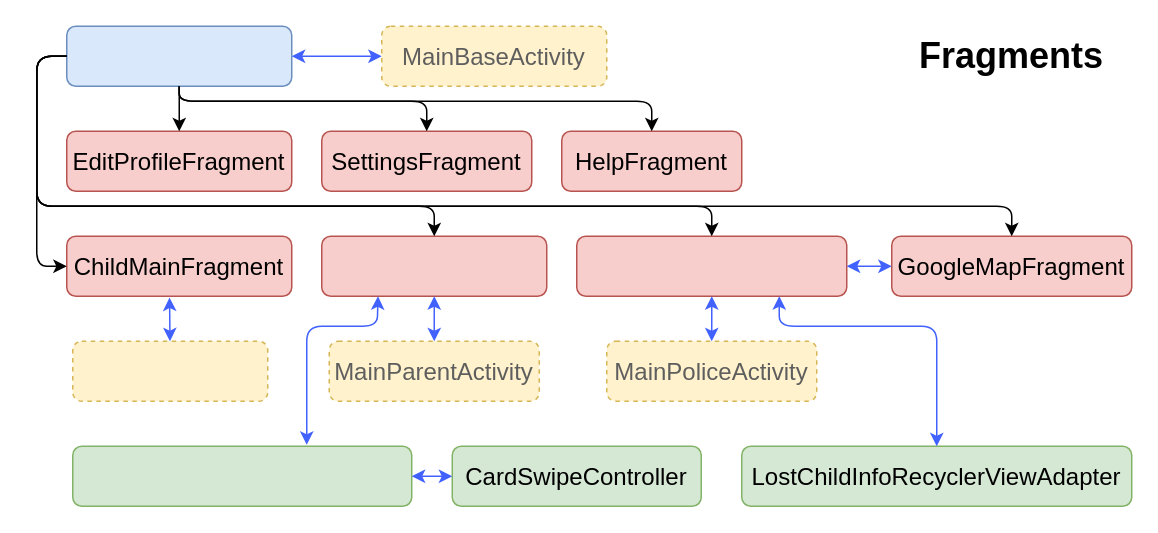
Some shapes in this 1158 by 533 pixel diagram are drawn without their labels. The centre of each missing label's shape, as x and y in pixels:
"ChildGridFragment" belongs at point (433, 265).
"ChildInfoRecyclerViewAdapter" belongs at point (241, 475).
"LostChildGridFragment" belongs at point (711, 265).
"MainBaseFragment" belongs at point (178, 55).
"MainChildActivity" belongs at point (169, 370).
